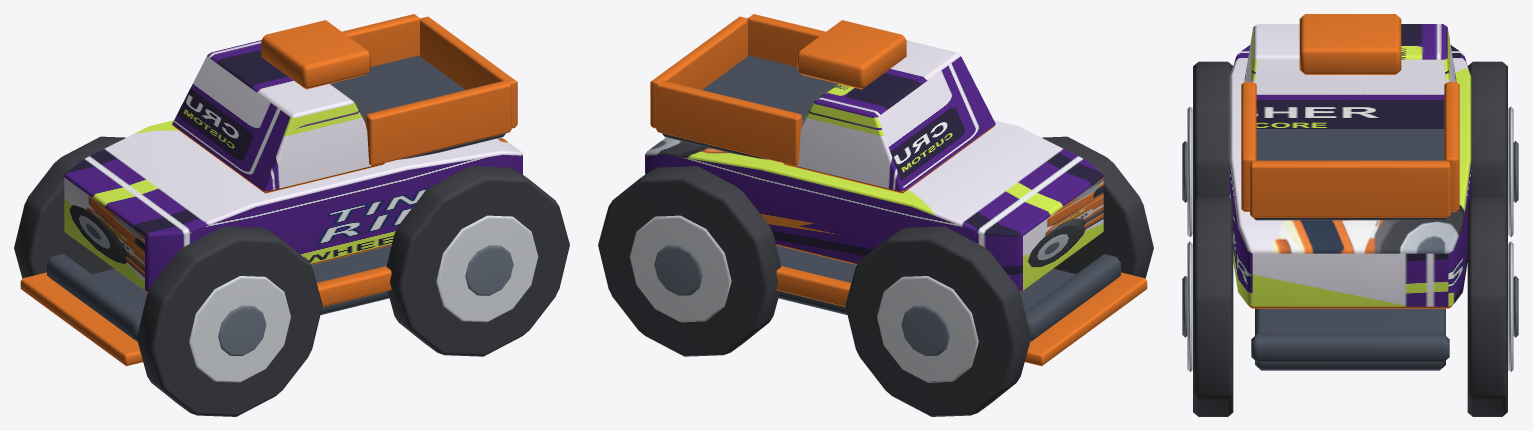
3 renders of one model, left to right at view 1: azimuth 30°, elevation 25°; view 2: azimuth 150°, elevation 25°; view 3: azimuth 270°, elevation 25°, orthographic. The views are drawn at different scales.
Visible parts, largest first — view 1: BW-01_connected_shell, BW-01_cabin, Tire, Tire.002, cargo side, Rim.002, Rim, Tire.001, custom equipment, cargo floor, custom chin, cargo tail (+6 smaller); view 2: BW-01_connected_shell, BW-01_cabin, Tire.001, Tire.003, cargo side.001, Rim.003, Rim.001, Tire, custom equipment, cargo floor, custom chin, cargo tail (+6 smaller); view 3: BW-01_connected_shell, BW-01_cabin, cargo tail, Tire.002, Tire.003, underbody, cargo floor, custom equipment, rear bumper, Tire, Tire.001, cargo side (+9 smaller).
Boxes of the visible parts, x1,y1,x2,y2 form: BW-01_connected_shell: (64,120,522,292); BW-01_cabin: (172,40,384,193); Tire: (136,226,322,416); Tire.002: (386,166,569,356); cargo side: (365,80,511,165); Rim.002: (436,215,538,322); Rim: (189,276,290,382); Tire.001: (14,136,125,278); custom equipment: (261,20,370,89); cargo floor: (330,55,505,159); custom chin: (20,272,142,366); cargo tail: (420,16,517,128); BW-01_connected_shell: (645,120,1103,292); BW-01_cabin: (783,40,995,193); Tire.001: (845,226,1031,416); Tire.003: (598,166,781,356); cargo side.001: (656,80,802,165); Rim.003: (629,215,731,322); Rim.001: (877,276,978,382); Tire: (1042,136,1153,278); custom equipment: (797,20,906,89); cargo floor: (662,55,837,159); custom chin: (1025,272,1147,366); cargo tail: (650,16,747,128); BW-01_connected_shell: (1229,45,1471,308); BW-01_cabin: (1244,24,1456,128); cargo tail: (1250,160,1450,217); Tire.002: (1193,196,1233,416); Tire.003: (1467,196,1507,416); underbody: (1255,308,1445,370); cargo floor: (1254,129,1446,220); custom equipment: (1299,14,1401,74); rear bumper: (1251,333,1449,362); Tire: (1193,61,1232,200); Tire.001: (1468,61,1507,200); cargo side: (1241,82,1256,211).
Bounding box in the file's own units: 358 × 230 × 217.
